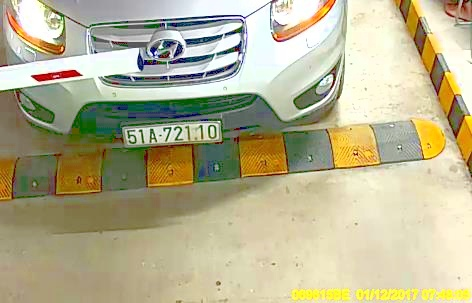plate: (121, 118, 226, 148)
